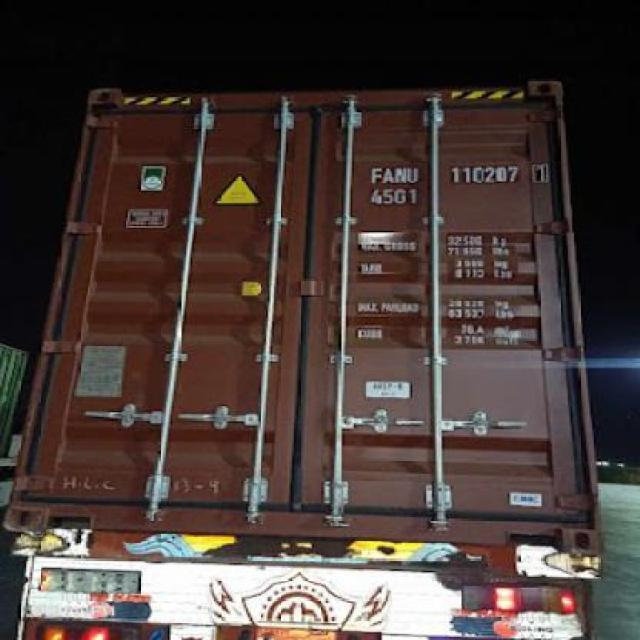ISO: (368, 187, 421, 203)
container_number: (366, 165, 552, 183)
